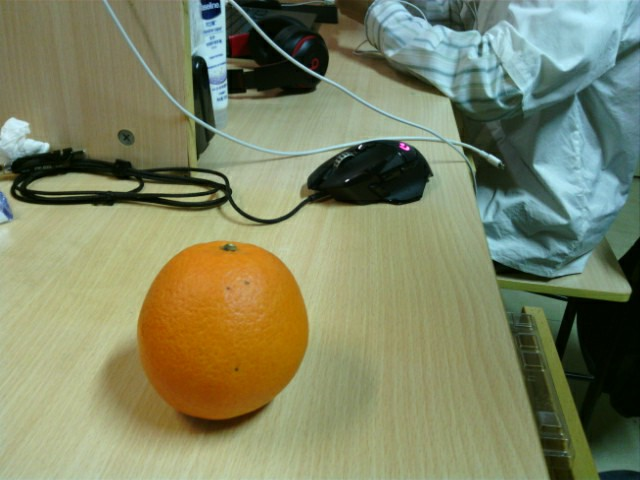normal_orange: (137, 242, 310, 418)
